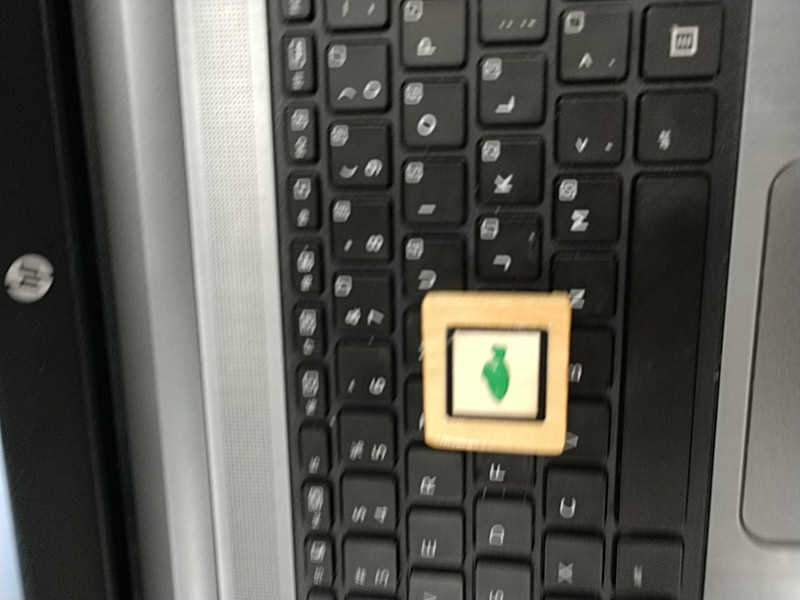Fish Tile: (441, 323, 551, 425)
